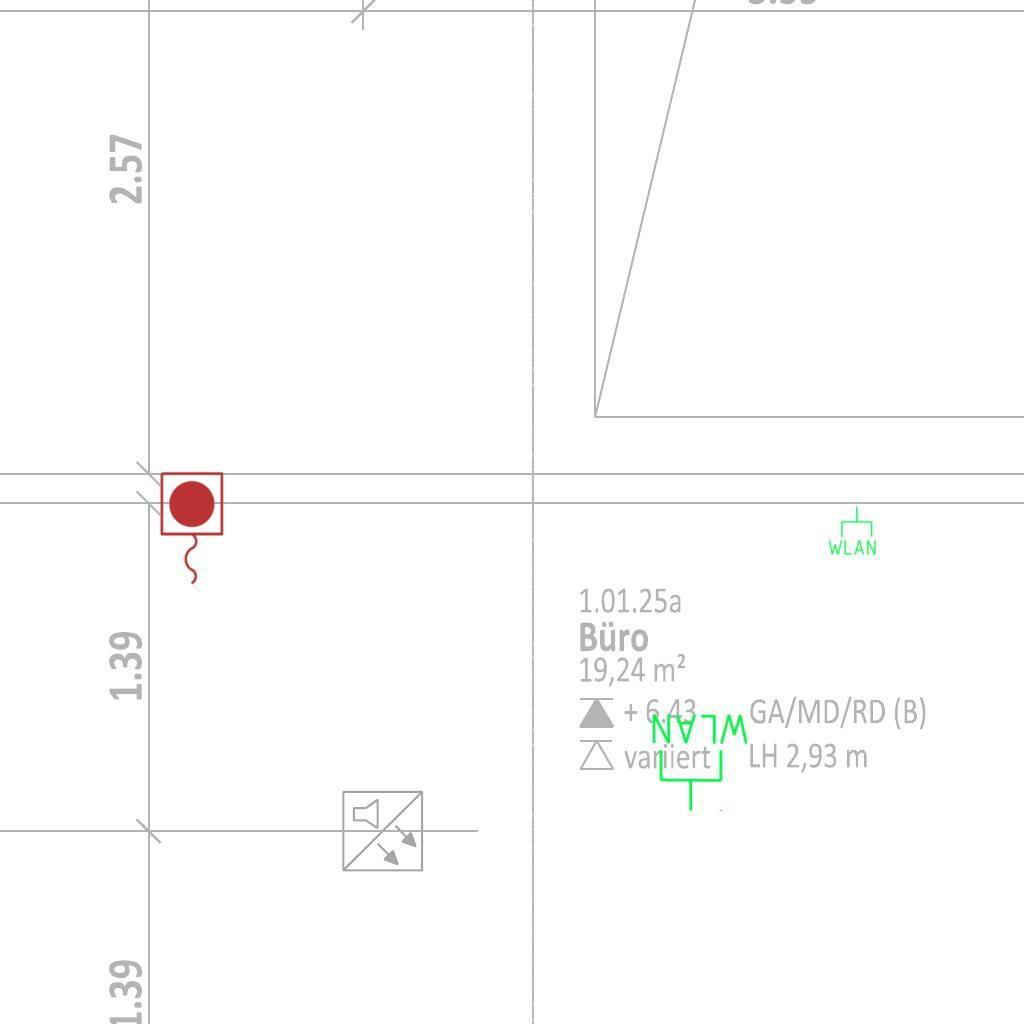WLAN: (648, 710, 753, 814), (826, 505, 878, 557)
Zugtaster: (155, 468, 227, 590)
